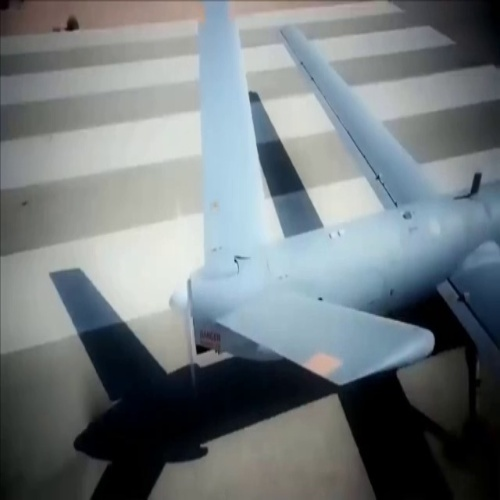uav: (167, 6, 500, 393)
